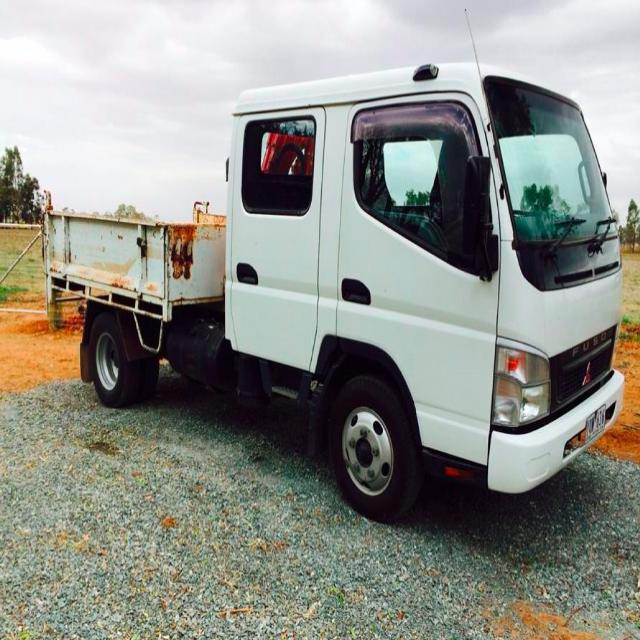truck: (42, 62, 640, 510)
